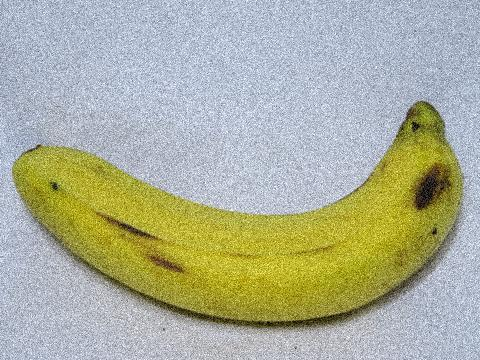freshripe: (5, 92, 466, 332)
